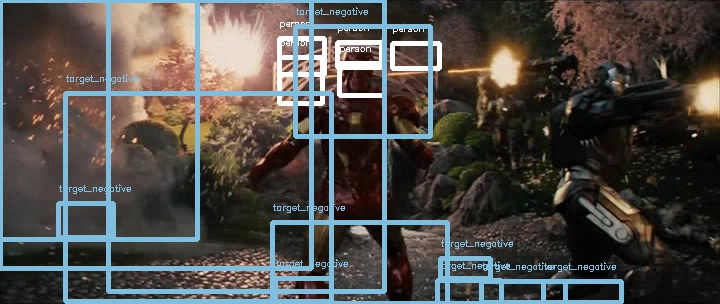person: (339, 42, 378, 92), (338, 42, 377, 92), (340, 42, 379, 92), (339, 41, 378, 91), (339, 43, 378, 93)
target_negative: (590, 86, 673, 294), (340, 244, 646, 291), (550, 88, 633, 223), (268, 145, 592, 178), (222, 83, 564, 113), (250, 214, 293, 242)
